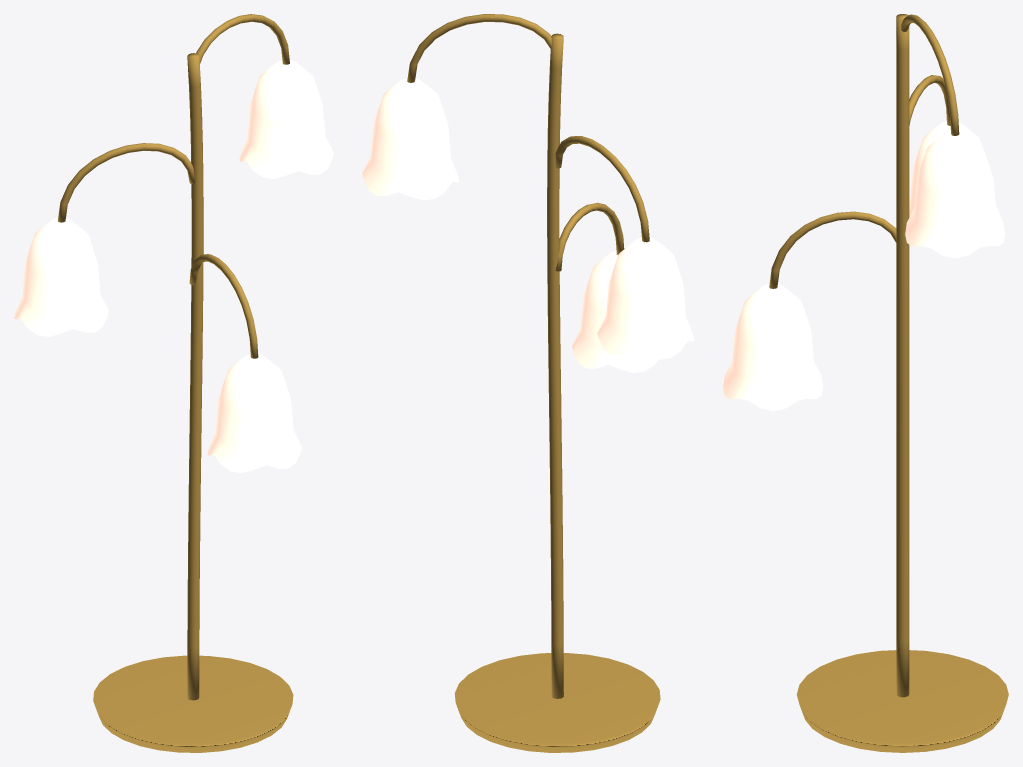
The model's file is tulip_lamp.glb.
The picture shows the model from 3 angles, left to right: view 1: azimuth 30°, elevation 25°; view 2: azimuth 150°, elevation 25°; view 3: azimuth 270°, elevation 25°; orthographic projection. The views are drawn at different scales.
Visible parts, largest first — view 1: model; view 2: model; view 3: model.
Boxes of the visible parts, left/top/right/bottom form: model: left=14, top=14, right=333, bottom=752; model: left=362, top=14, right=694, bottom=752; model: left=723, top=14, right=1008, bottom=752.
Bounding box in the file's own units: 0.6398 × 1.33 × 0.485.
3 materials, 3 textured.
